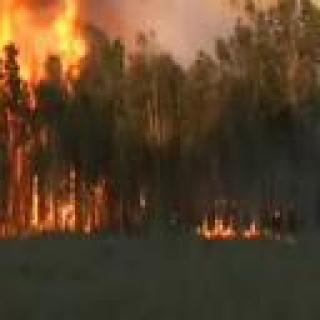fire: (0, 0, 106, 235), (202, 210, 272, 240)
